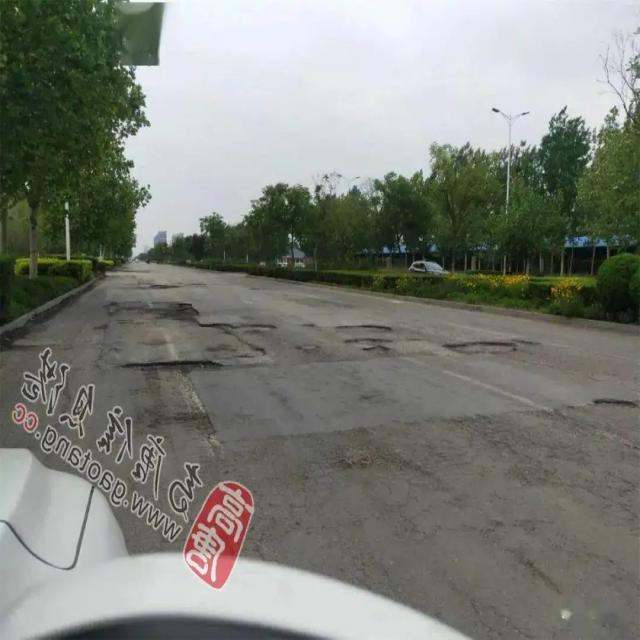pothole: (102, 302, 278, 374), (334, 324, 393, 357), (444, 340, 520, 357), (120, 280, 188, 292), (593, 396, 637, 411)
